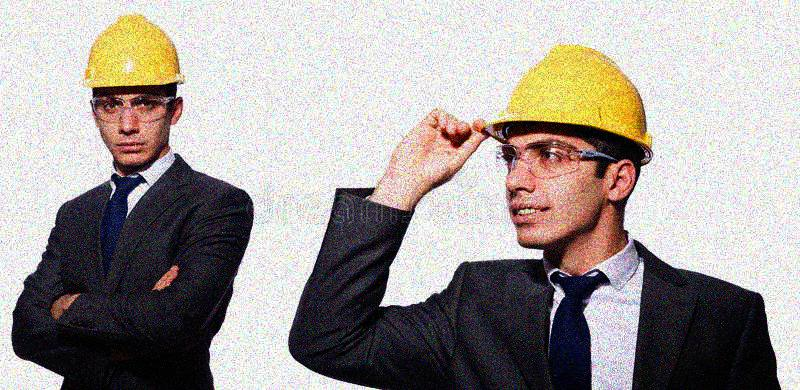helmet: (478, 44, 654, 249), (80, 11, 184, 170)
